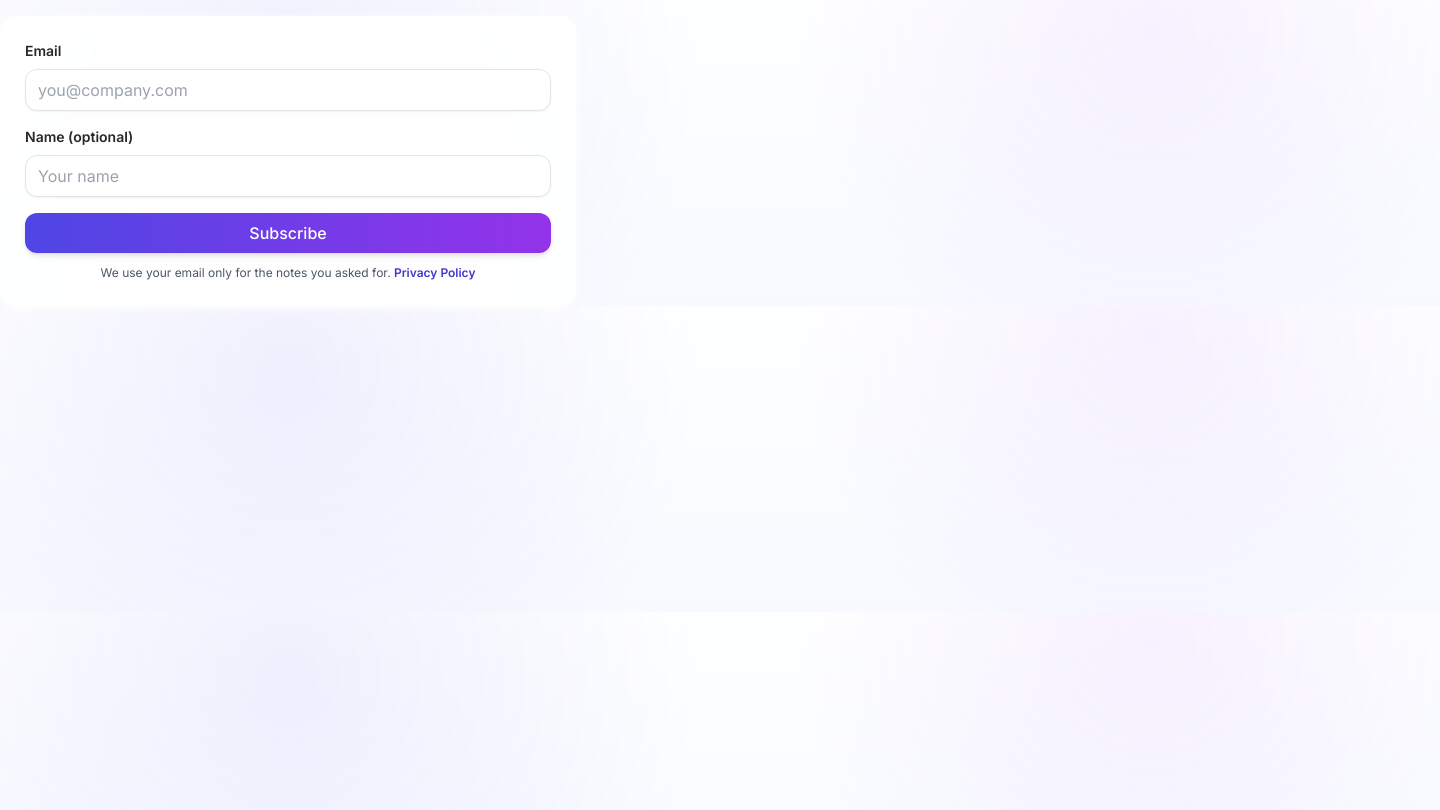
Test: subscribe form › an invalid email is explained on the page
Type "not-an-email" into the field labelled "Email" at (288, 90), box [25, 69, 551, 111]
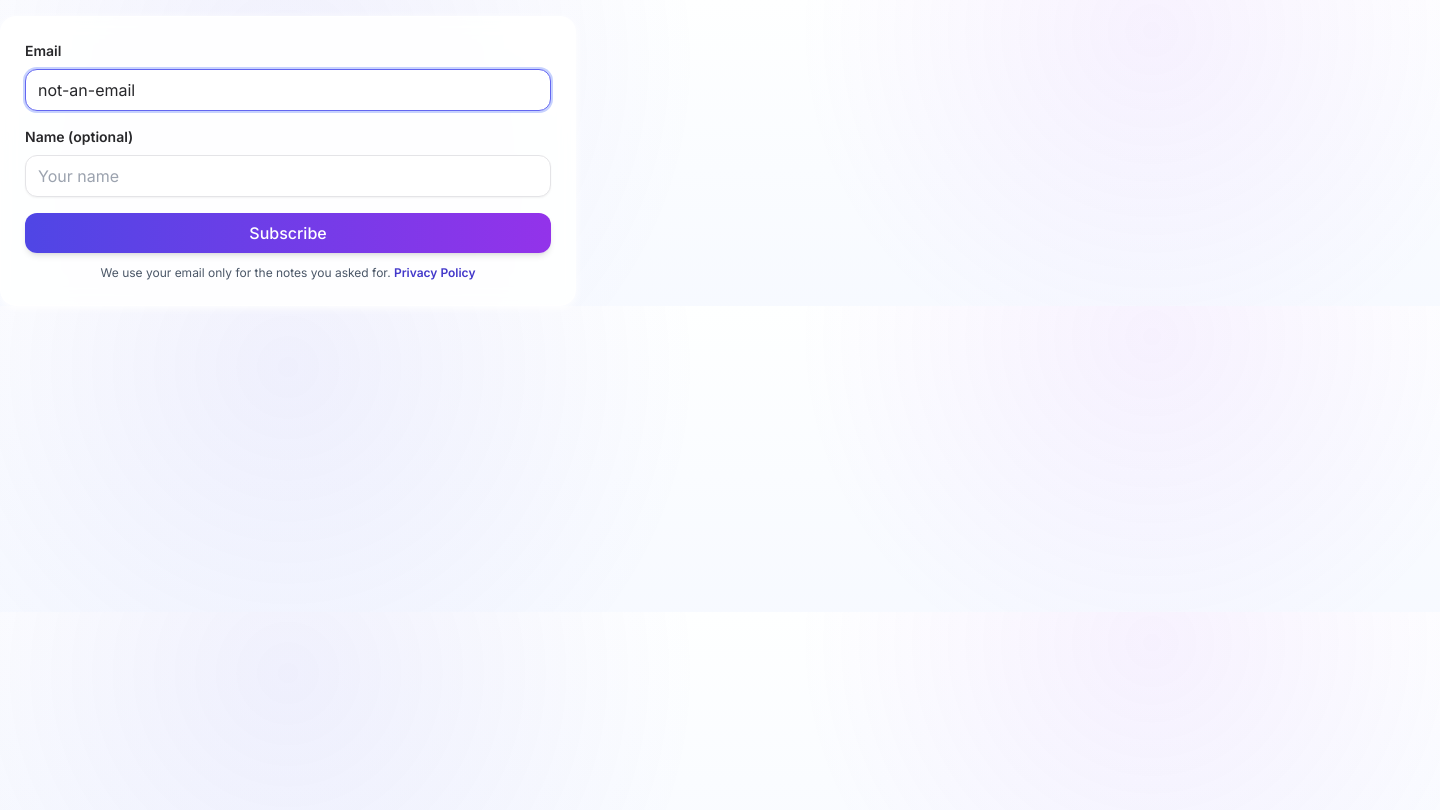
Click the button "Subscribe" at (288, 233), box [25, 213, 551, 253]
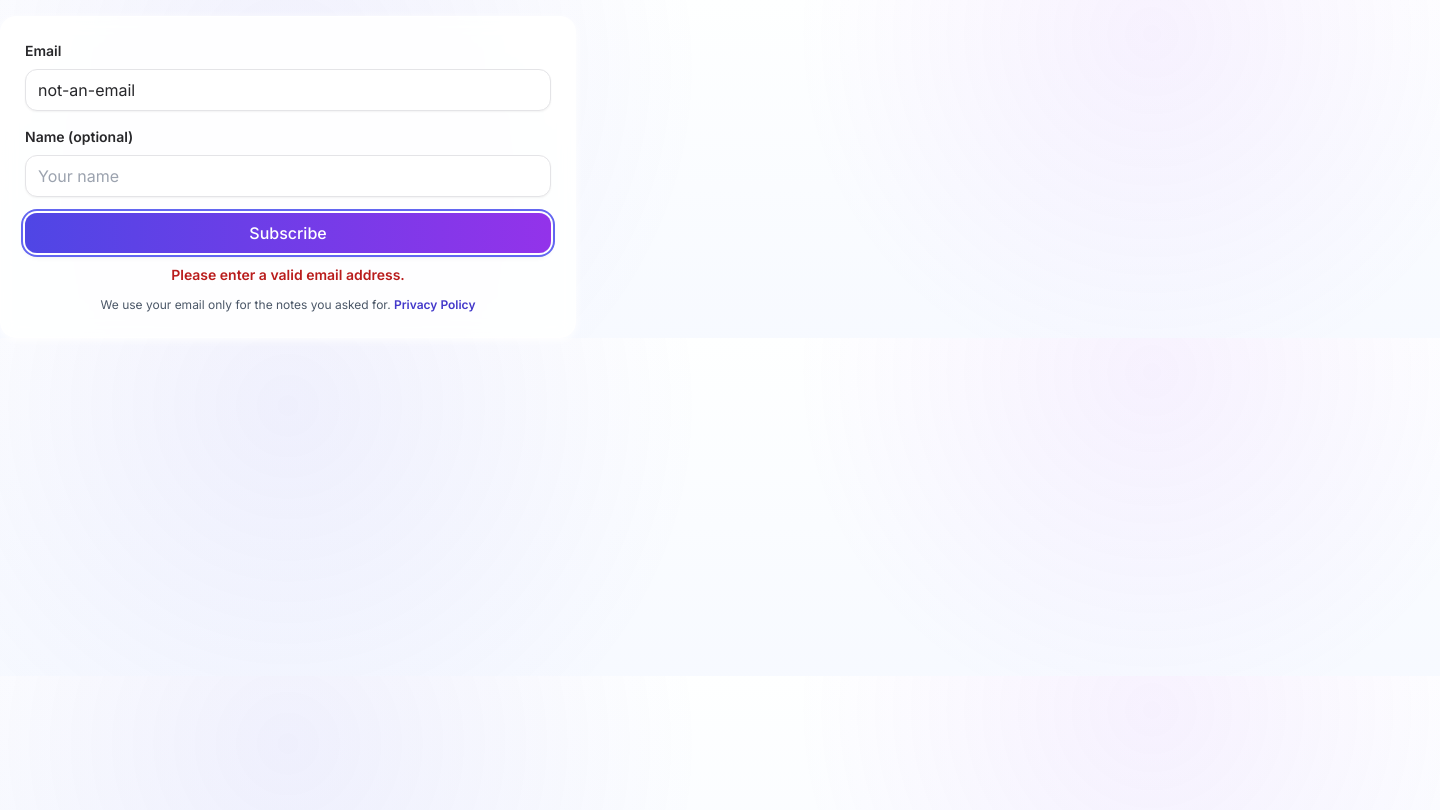
Expected: the message reads "Please enter a valid email address.", [171, 266, 405, 283]
